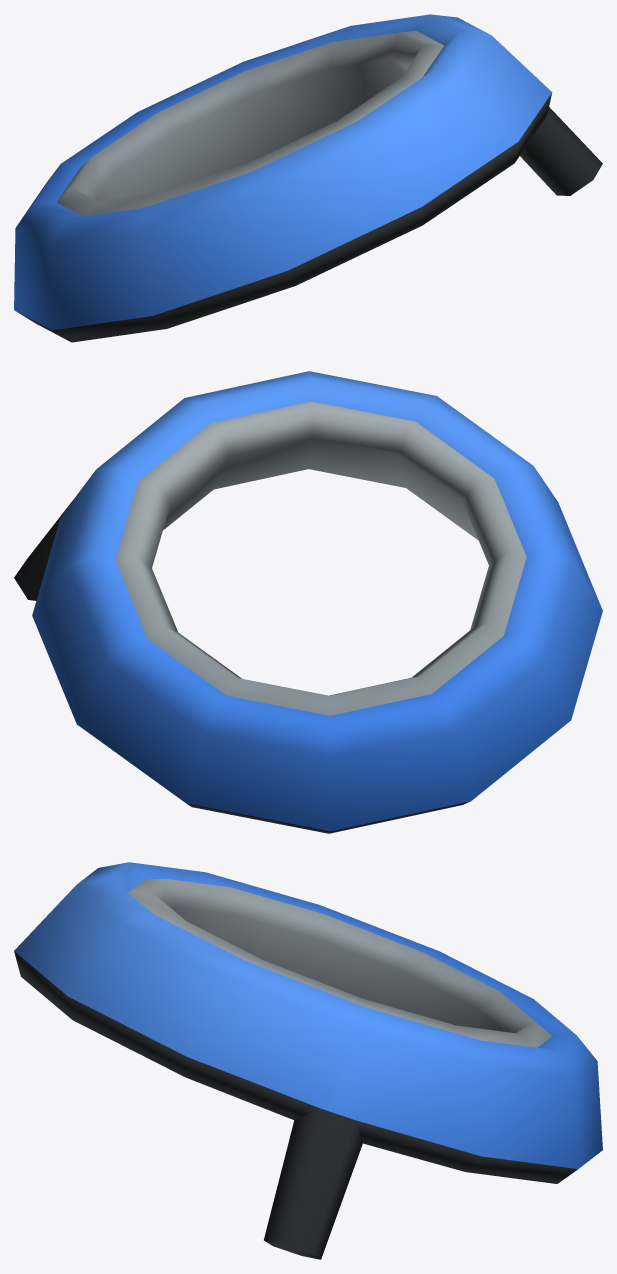
The model's file is drone_3_003.fbx.
3 renders of one model, top to bottom at view 1: azimuth 30°, elevation 25°; view 2: azimuth 150°, elevation 25°; view 3: azimuth 270°, elevation 25°, orthographic. The views are drawn at different scales.
Visible parts, largest first — view 1: drone_3_003; view 2: drone_3_003; view 3: drone_3_003.
Boxes of the visible parts, x1,y1,x2,y2 form: drone_3_003: [14, 14, 602, 342]; drone_3_003: [14, 371, 602, 833]; drone_3_003: [14, 862, 602, 1259].
Bounding box in the file's own units: 173 × 148 × 85.97.
